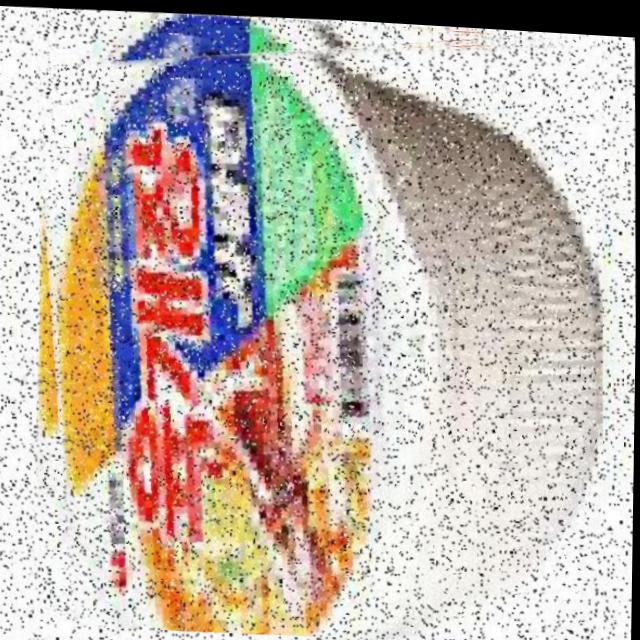Miscellaneous: (25, 1, 611, 640)
